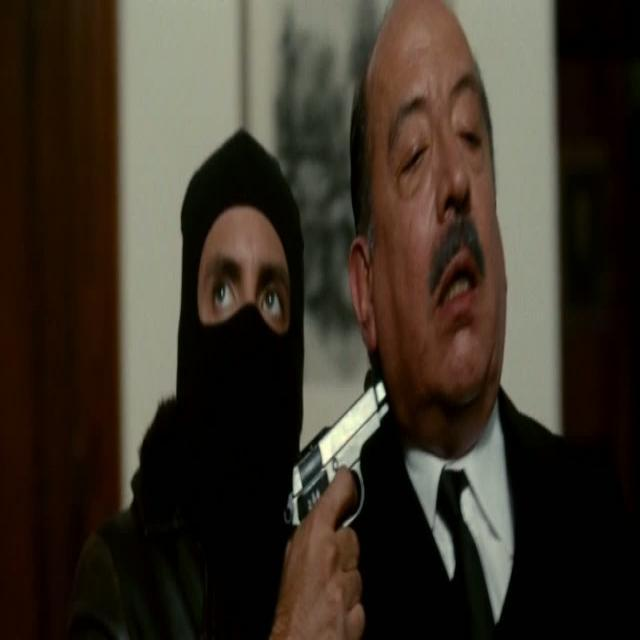gun-knife-thesis - v11 Yolov5 augmented: (279, 348, 385, 639)
